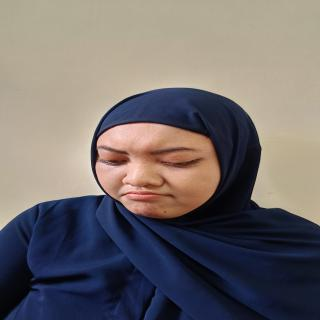Sedih: (88, 123, 227, 222)
